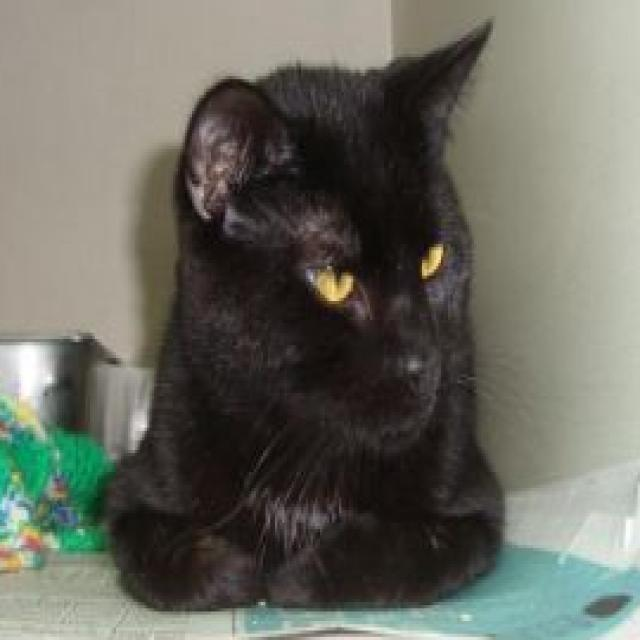Bombay: (104, 12, 506, 611)
